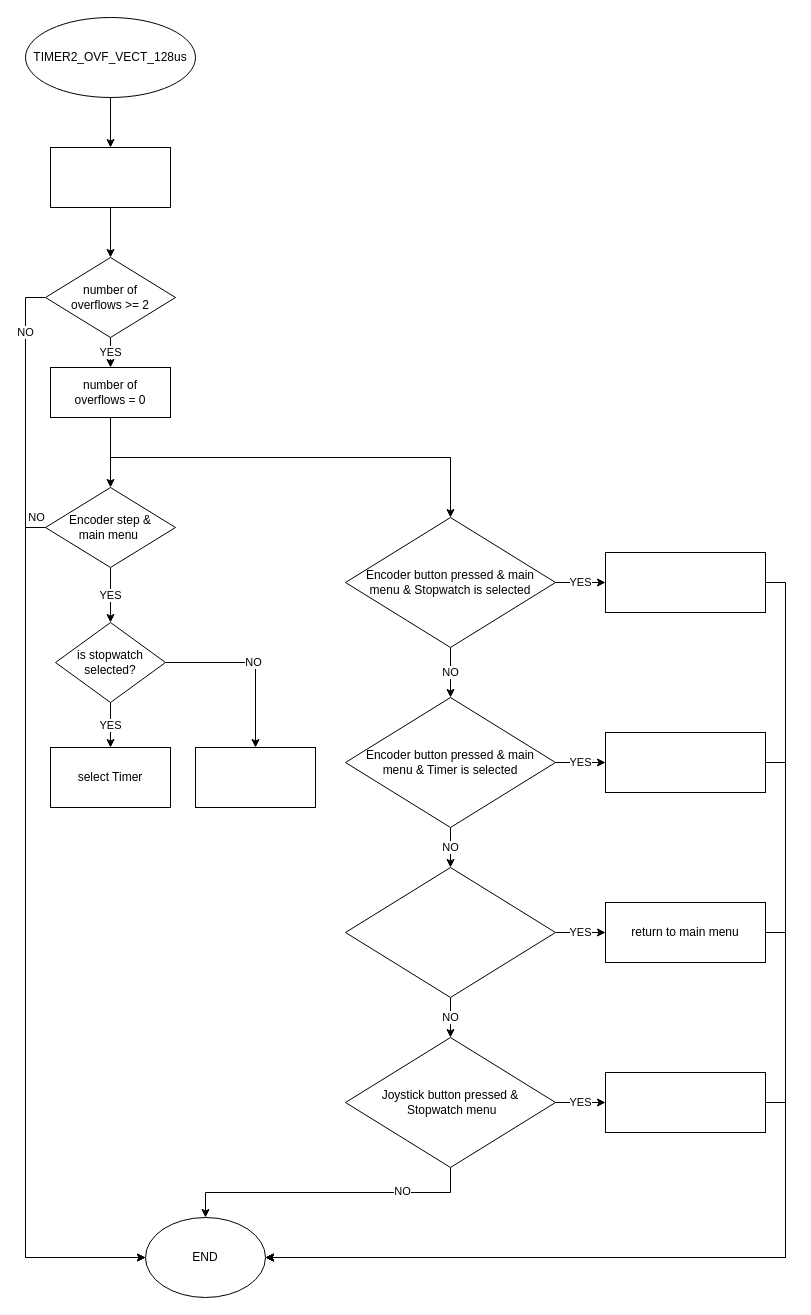
Image size: 811x1315. Some labels were removed from this diagram. Here are the shapes that lost their labels. From the top down, the centre of each, then its label:
the point at 110,177: number of overflows++
the point at 685,582: Switch to stopwatch menu
the point at 255,777: select Stopwatch
the point at 685,762: Switch to Timer menu
the point at 450,932: Encoder button pressed & not main menu
the point at 685,1102: start stopwatch
